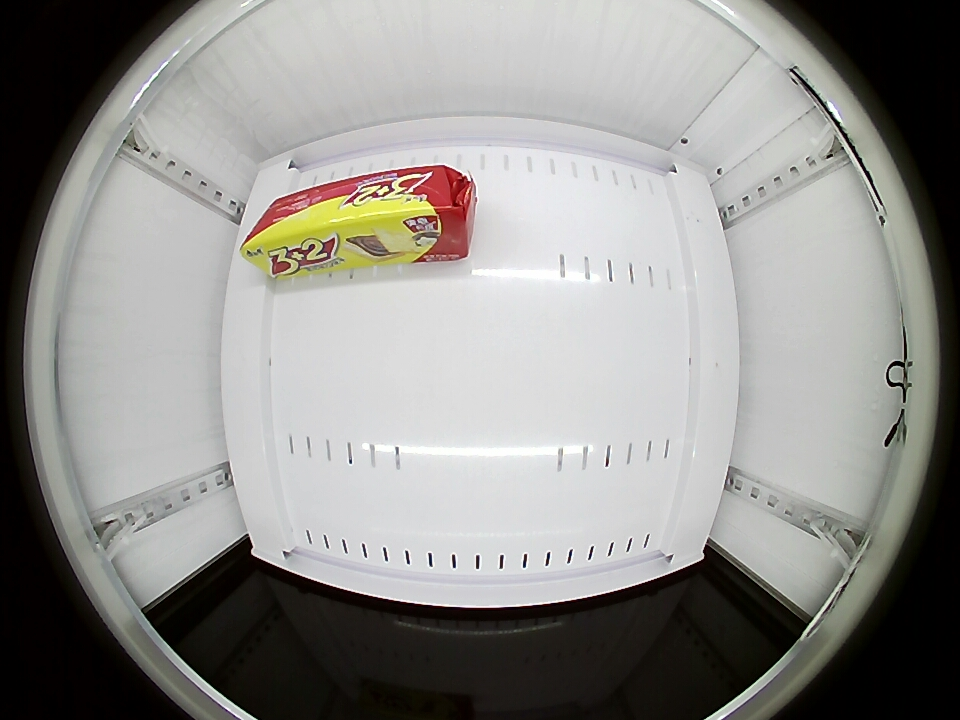3jia2: (244, 164, 469, 265)
